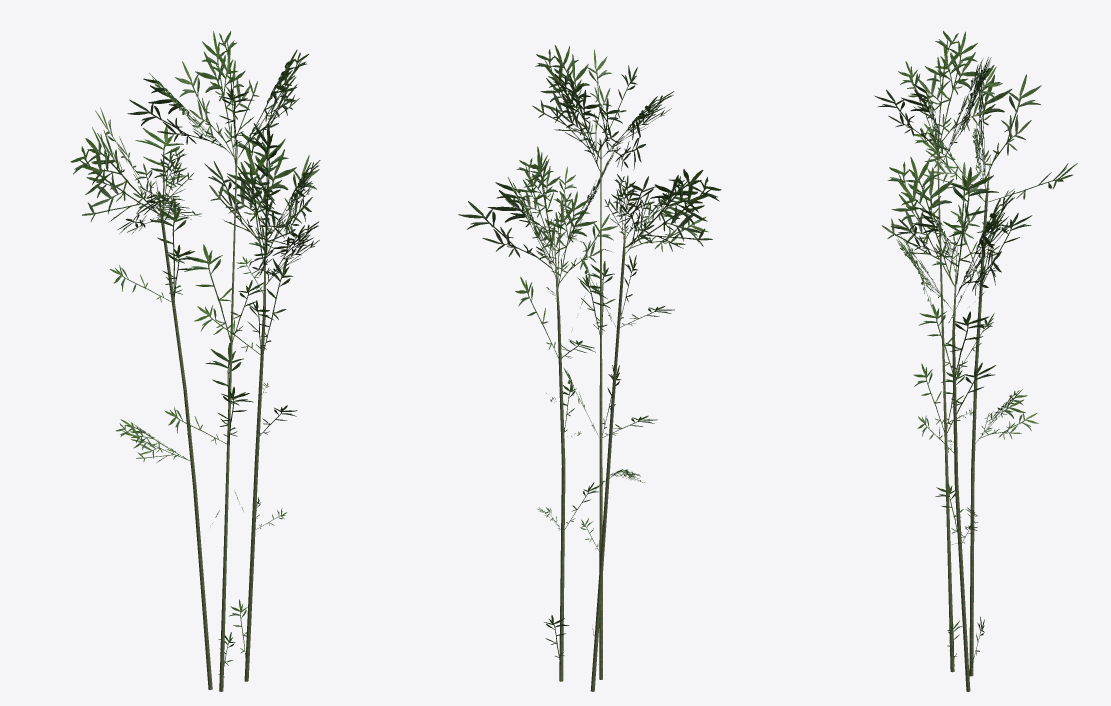
Rendered from leaf_bamboo_tri_l0.fbx.
The picture shows the model from 3 angles, left to right: view 1: azimuth 30°, elevation 25°; view 2: azimuth 150°, elevation 25°; view 3: azimuth 270°, elevation 25°; orthographic projection. The views are drawn at different scales.
Visible parts, largest first — view 1: mesh_node; view 2: mesh_node; view 3: mesh_node.
Boxes of the visible parts, x1,y1,x2,y2 form: mesh_node: [70, 31, 320, 691]; mesh_node: [458, 45, 721, 691]; mesh_node: [874, 31, 1077, 691].
Size of the model in its own units: 6.97 by 11.46 by 4.65.
